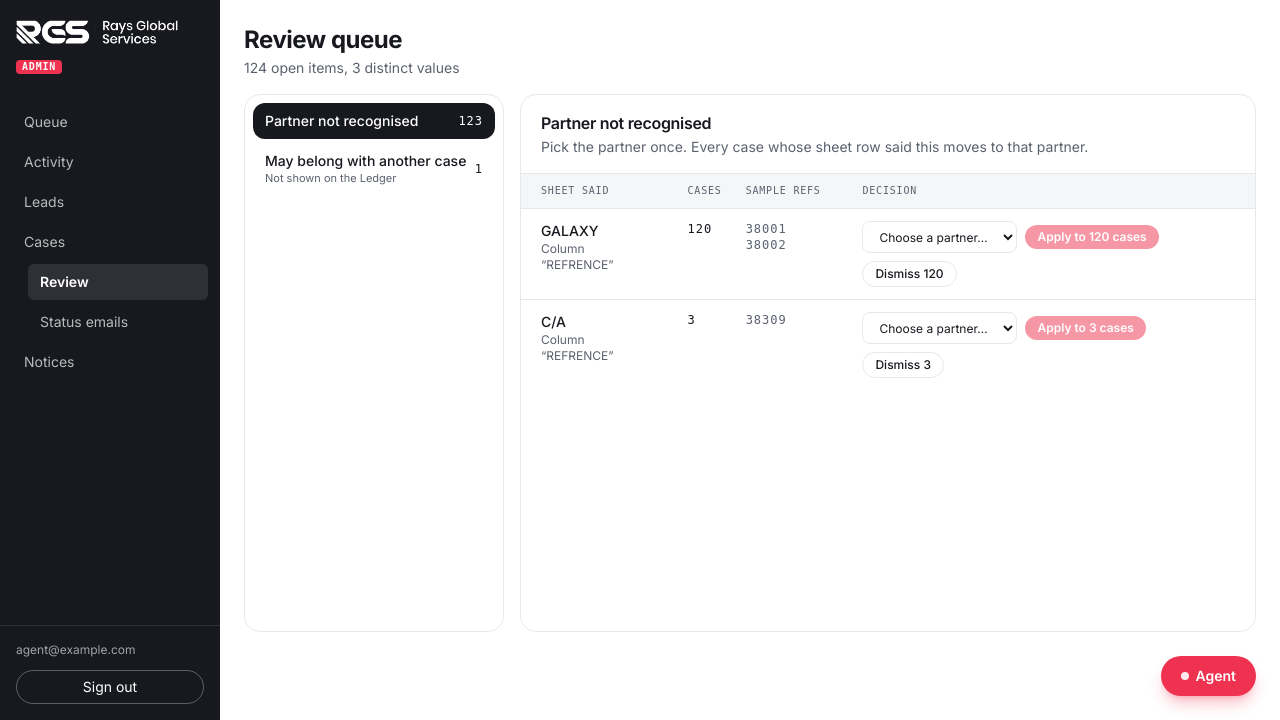
Scenario: ReviewPage › stops looping when a chunk makes no progress and names the cases that stay open
This screenshot has width=1280, height=720.
Expected: the text "C/A" is shown, [541,313,566,330]
What coordinates should you click on to do the following:
click the button "Dismiss 3"
I would click on:
 (903, 365)
Its box is [862,352,944,378].
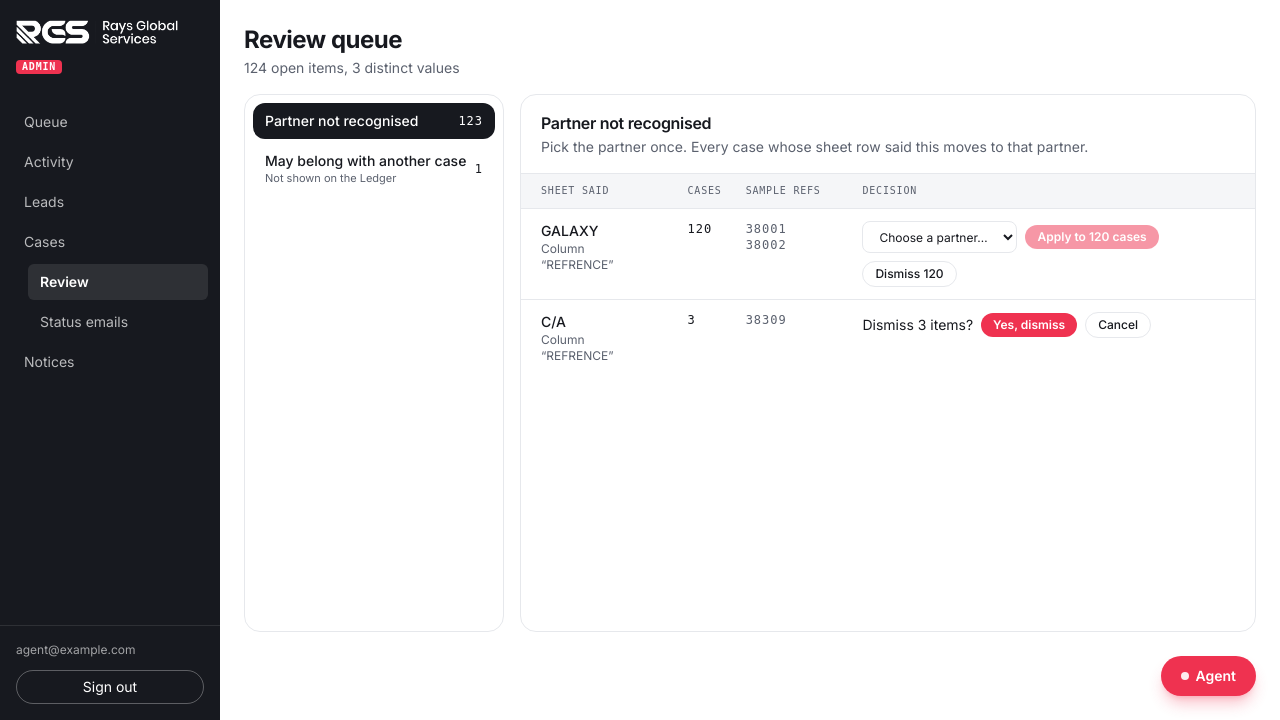
What coordinates should you click on to do the following:
click the button "Yes, dismiss"
I would click on:
 (1029, 325)
Its box is [981,313,1077,337].
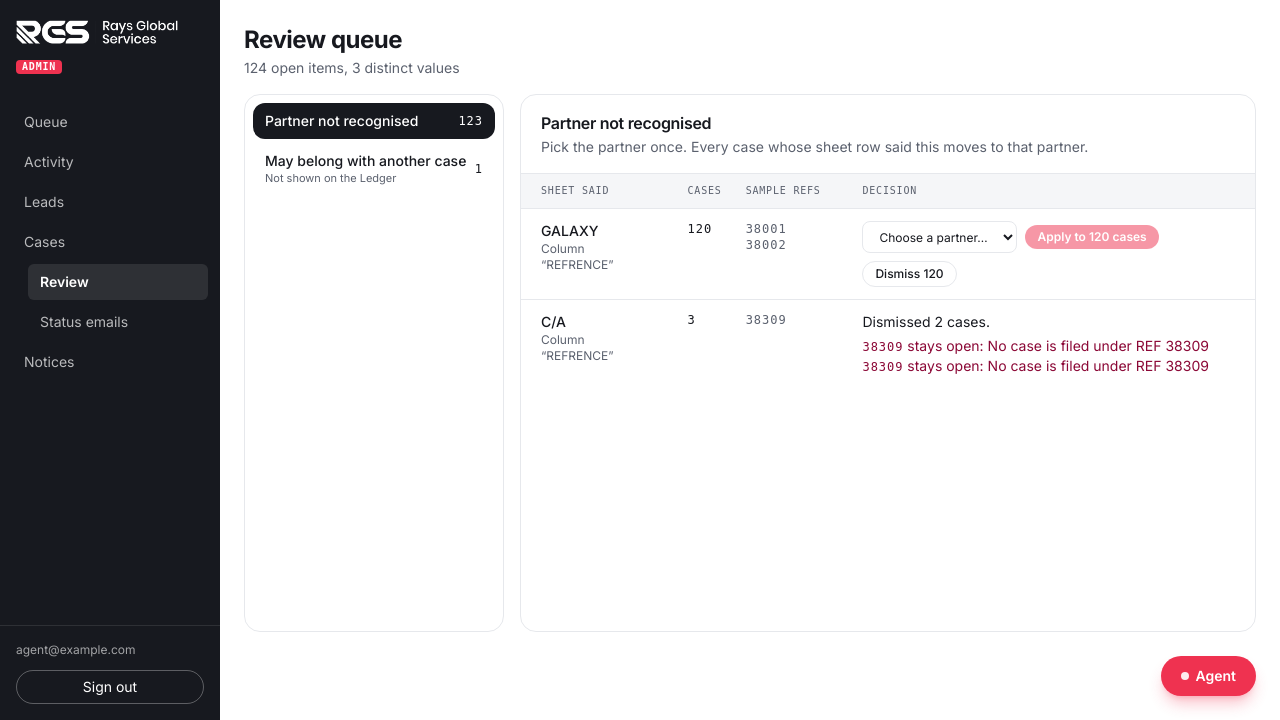
Now the text "Dismissed 2 cases." is shown, box [862,313,990,330]
Now the 1st list item "38309 stays open: No case is filed under REF 38309" is shown, box [862,336,1235,356]
